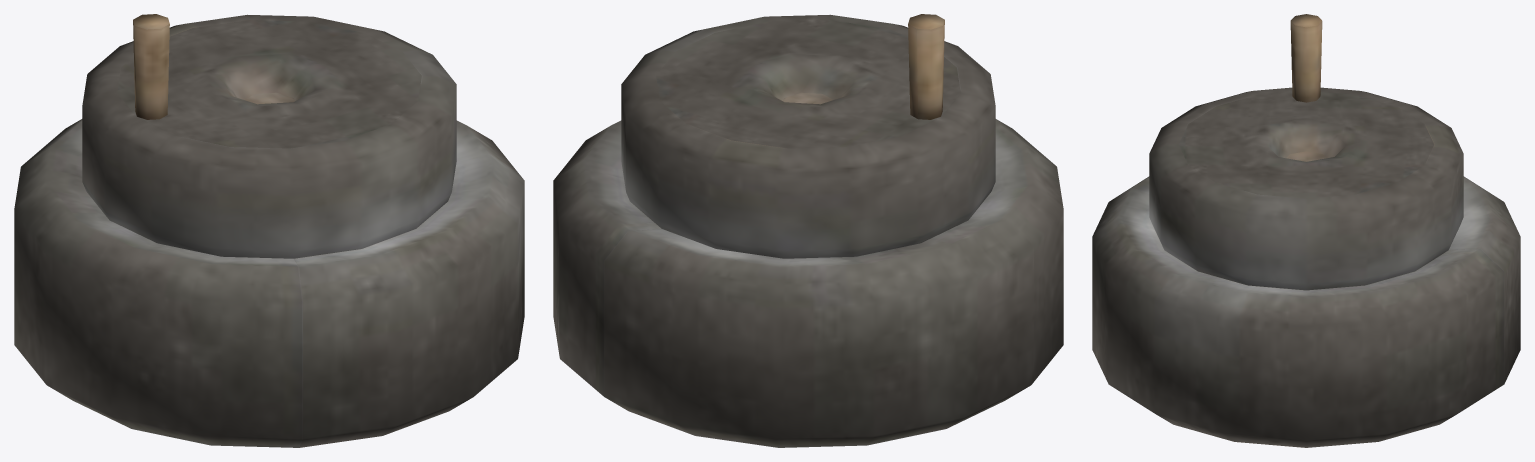
The model's file is hand_grinder.glb.
3 renders of one model, left to right at view 1: azimuth 30°, elevation 25°; view 2: azimuth 150°, elevation 25°; view 3: azimuth 270°, elevation 25°, orthographic. The views are drawn at different scales.
Visible parts, largest first — view 1: npc_props_grindingStone; view 2: npc_props_grindingStone; view 3: npc_props_grindingStone.
Part boxes in pixels (left/top/right/bottom): npc_props_grindingStone: left=14, top=14, right=524, bottom=447; npc_props_grindingStone: left=553, top=14, right=1063, bottom=447; npc_props_grindingStone: left=1092, top=14, right=1520, bottom=447.
Bounding box in the file's own units: 1.19 × 0.9208 × 1.19.
1 material, 1 textured.
